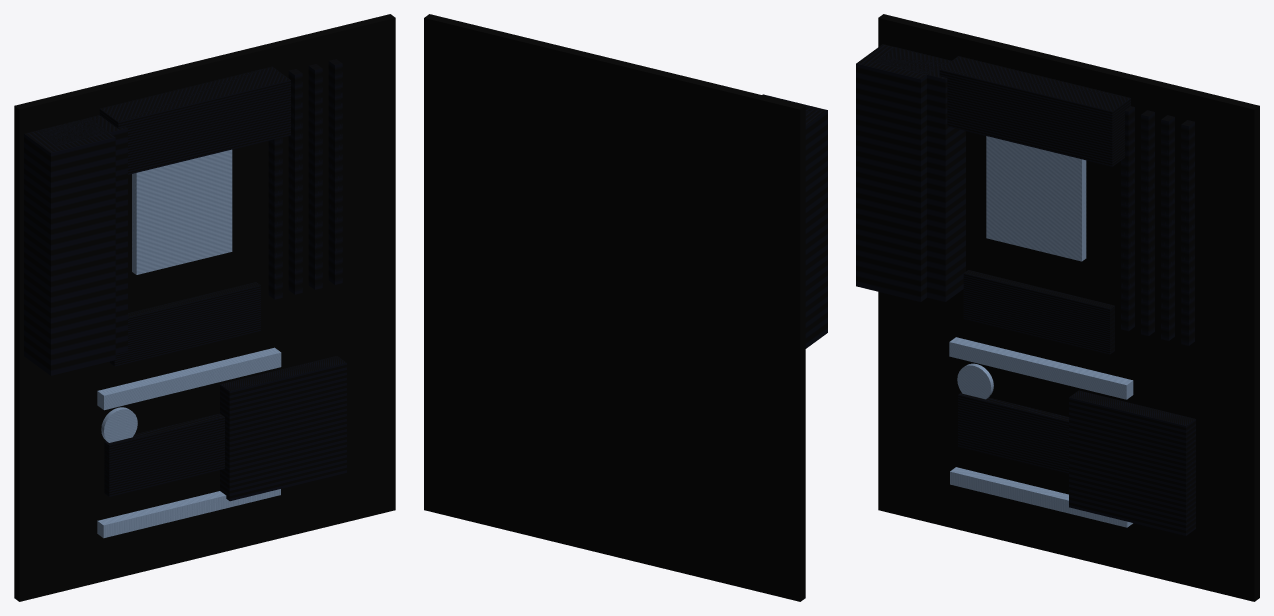
The model's file is asus-b650m.glb.
3 views of the same model, side by side, from view 1: azimuth 30°, elevation 25°; view 2: azimuth 150°, elevation 25°; view 3: azimuth 330°, elevation 25° (orthographic).
Parts seen in each view (by area): view 1: MotherboardPCB, IoRearShroud, ChipsetHeatsink, VrmTopHeatsink, CpuSocketILM, M2ArmorPlate1, M2ArmorPlate2, VrmLeftHeatsink, PcieSlotPrimary, DimmSlot_0.81, DimmSlot_0.68, DimmSlot_0.55 (+3 smaller); view 2: MotherboardPCB, IoRearShroud; view 3: MotherboardPCB, IoRearShroud, ChipsetHeatsink, VrmTopHeatsink, CpuSocketILM, VrmLeftHeatsink, M2ArmorPlate1, M2ArmorPlate2, PcieSlotPrimary, DimmSlot_0.55, DimmSlot_0.68, DimmSlot_0.81 (+3 smaller).
Boxes of the visible parts, <box> form: MotherboardPCB: <box>14,14,395,601</box>; IoRearShroud: <box>24,118,115,375</box>; ChipsetHeatsink: <box>220,356,346,501</box>; VrmTopHeatsink: <box>99,66,290,174</box>; CpuSocketILM: <box>132,149,232,274</box>; M2ArmorPlate1: <box>109,282,260,366</box>; M2ArmorPlate2: <box>104,413,224,496</box>; VrmLeftHeatsink: <box>37,115,127,353</box>; PcieSlotPrimary: <box>97,347,281,410</box>; DimmSlot_0.81: <box>328,59,342,284</box>; DimmSlot_0.68: <box>308,64,322,289</box>; DimmSlot_0.55: <box>288,69,302,294</box>; MotherboardPCB: <box>424,14,805,601</box>; IoRearShroud: <box>762,94,827,348</box>; MotherboardPCB: <box>878,14,1259,601</box>; IoRearShroud: <box>856,44,935,301</box>; ChipsetHeatsink: <box>1069,390,1195,535</box>; VrmTopHeatsink: <box>939,56,1130,166</box>; CpuSocketILM: <box>986,136,1086,261</box>; VrmLeftHeatsink: <box>875,47,965,301</box>; M2ArmorPlate1: <box>963,270,1114,354</box>; M2ArmorPlate2: <box>958,392,1068,473</box>; PcieSlotPrimary: <box>949,337,1133,399</box>; DimmSlot_0.55: <box>1141,110,1154,335</box>; DimmSlot_0.68: <box>1161,115,1174,340</box>; DimmSlot_0.81: <box>1181,120,1194,345</box>.
Bounding box in the file's own units: 2.44 × 3.05 × 0.36.
3 materials, 3 textured.
